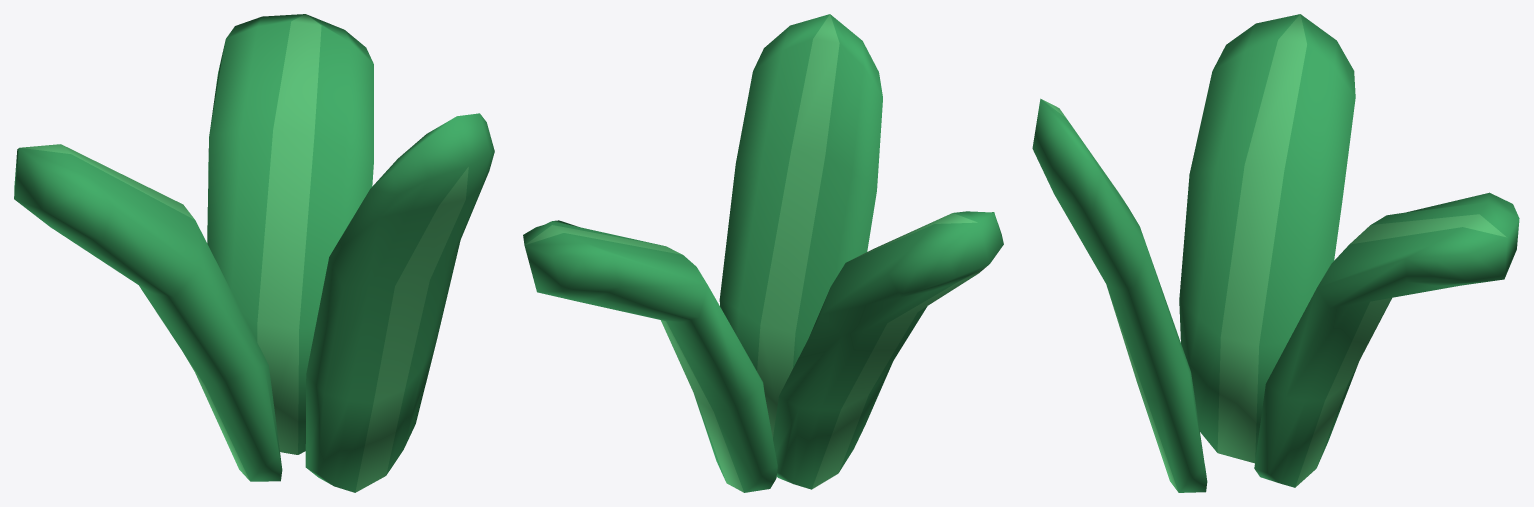
The model's file is Flora_B_01_LOD2.gltf.
3 views of the same model, side by side, from view 1: azimuth 30°, elevation 25°; view 2: azimuth 150°, elevation 25°; view 3: azimuth 270°, elevation 25° (orthographic). The views are drawn at different scales.
Visible parts, largest first — view 1: Flora_B_01_LOD2_Plane.042; view 2: Flora_B_01_LOD2_Plane.042; view 3: Flora_B_01_LOD2_Plane.042.
Boxes of the visible parts, <box> form: Flora_B_01_LOD2_Plane.042: <box>14,14,494,492</box>; Flora_B_01_LOD2_Plane.042: <box>523,14,1003,492</box>; Flora_B_01_LOD2_Plane.042: <box>1032,14,1519,492</box>.
Size of the model in its own units: 2.89 by 2.7 by 2.99.
Materials: 1 (1 with a texture image).
